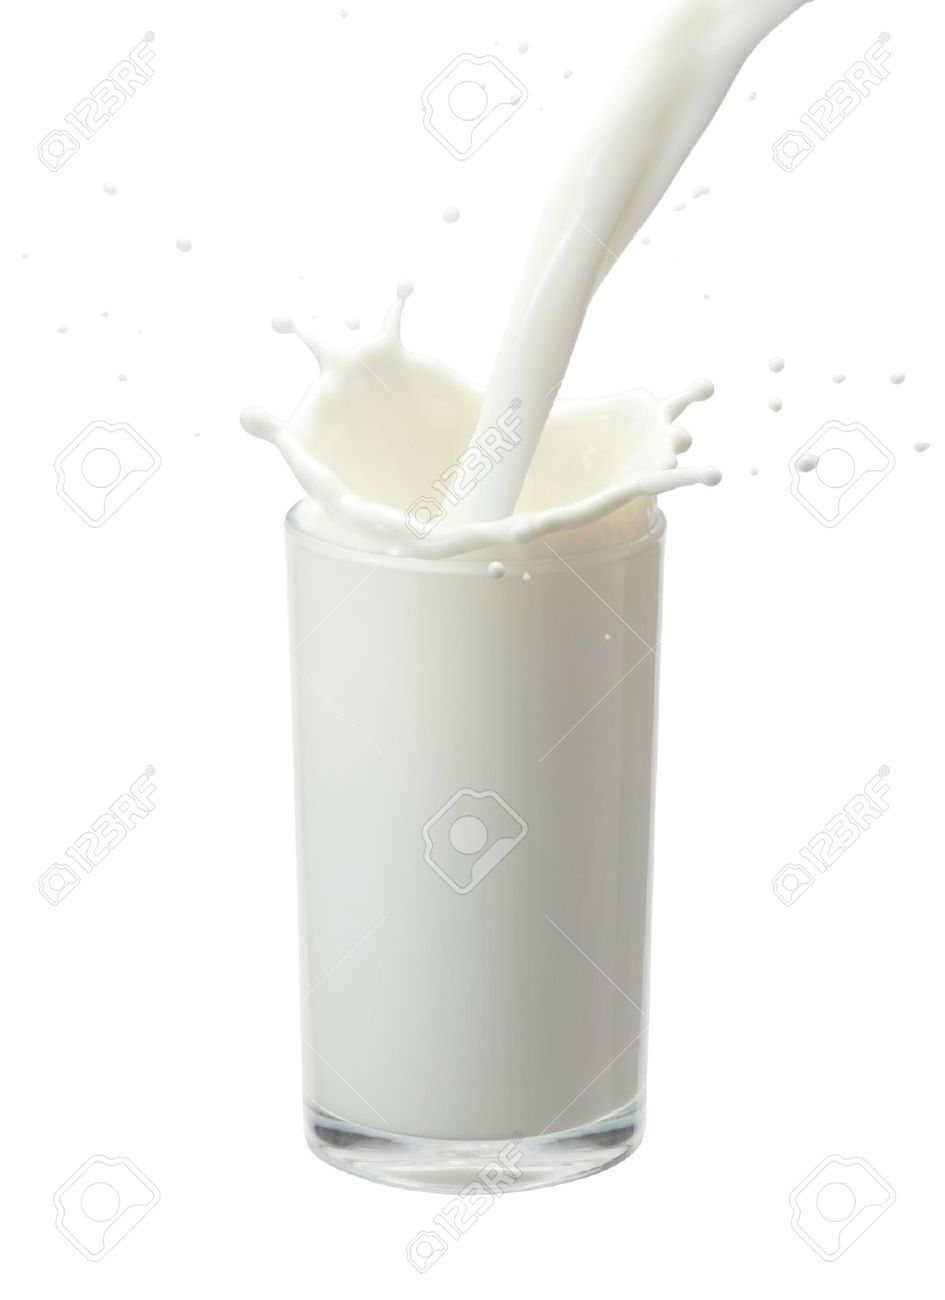glass of milk: (259, 375, 671, 1199)
